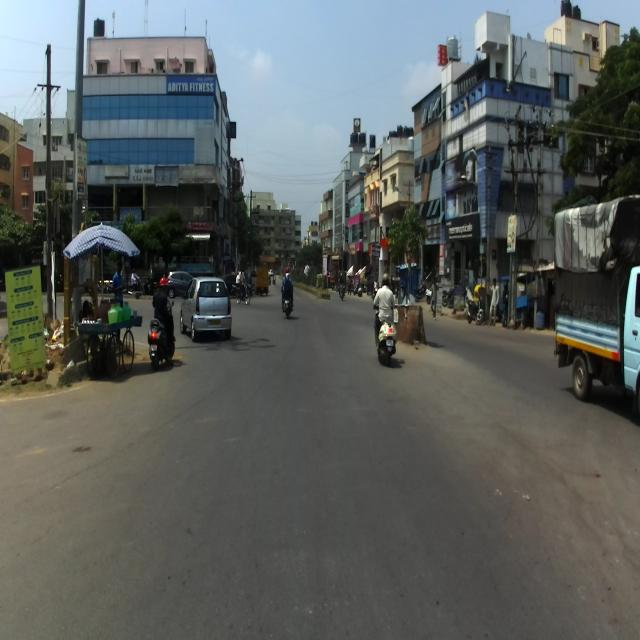car ahead at: (181, 274, 233, 342)
electric pole ahead at: (36, 42, 65, 323)
truck ahead at: (548, 198, 640, 416)
